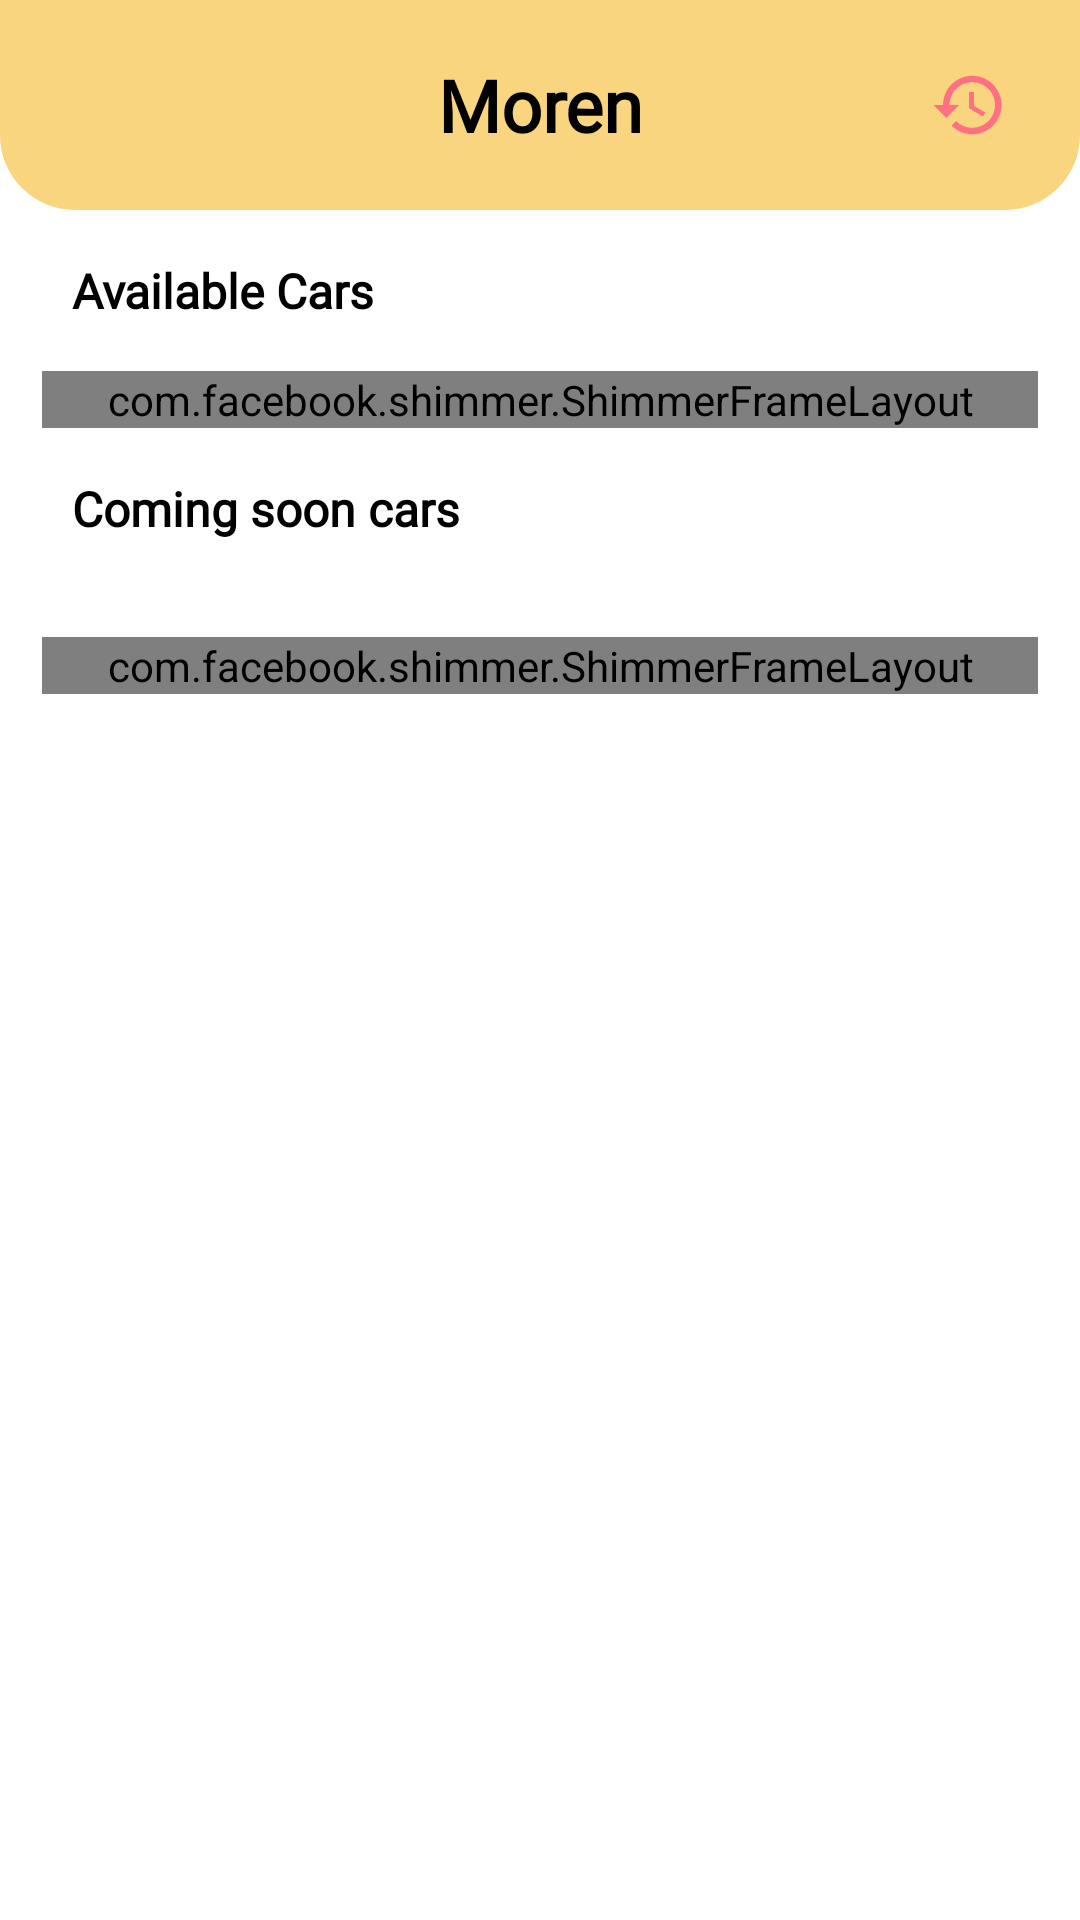

Locate icon controls on the screen. Image size 1080 × 1920, boxes as bbox(x1, y1, x2, y2).
history: bbox(934, 75, 1002, 135)
